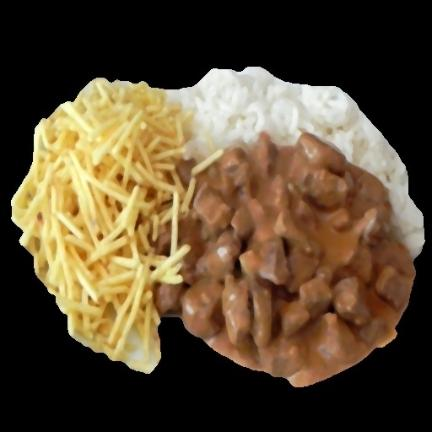meat: (154, 134, 415, 386)
potato: (11, 79, 190, 372)
rice: (167, 67, 424, 258)
